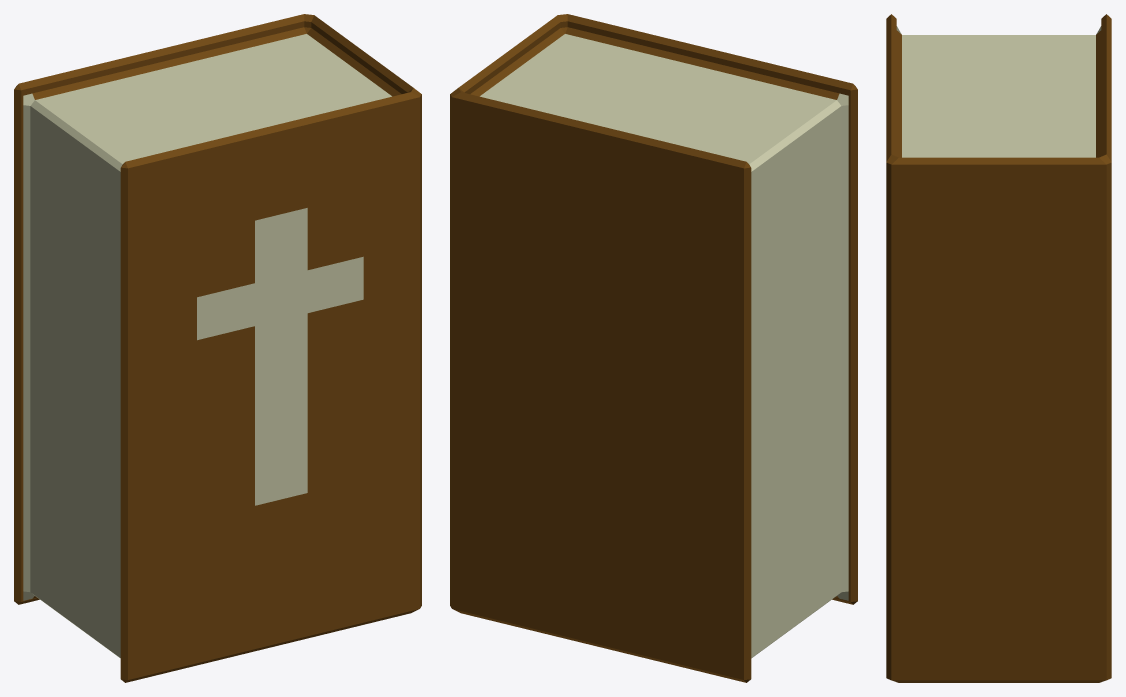
Rendered from Book3V1.fbx.
3 renders of one model, left to right at view 1: azimuth 30°, elevation 25°; view 2: azimuth 150°, elevation 25°; view 3: azimuth 270°, elevation 25°, orthographic.
Visible parts, largest first — view 1: Cube.002; view 2: Cube.002; view 3: Cube.002.
Part boxes in pixels (x1,y1,x2,y2): Cube.002: (14,14,421,682); Cube.002: (450,14,857,682); Cube.002: (886,14,1111,682).
Size of the model in its own units: 137 by 213 by 352.
